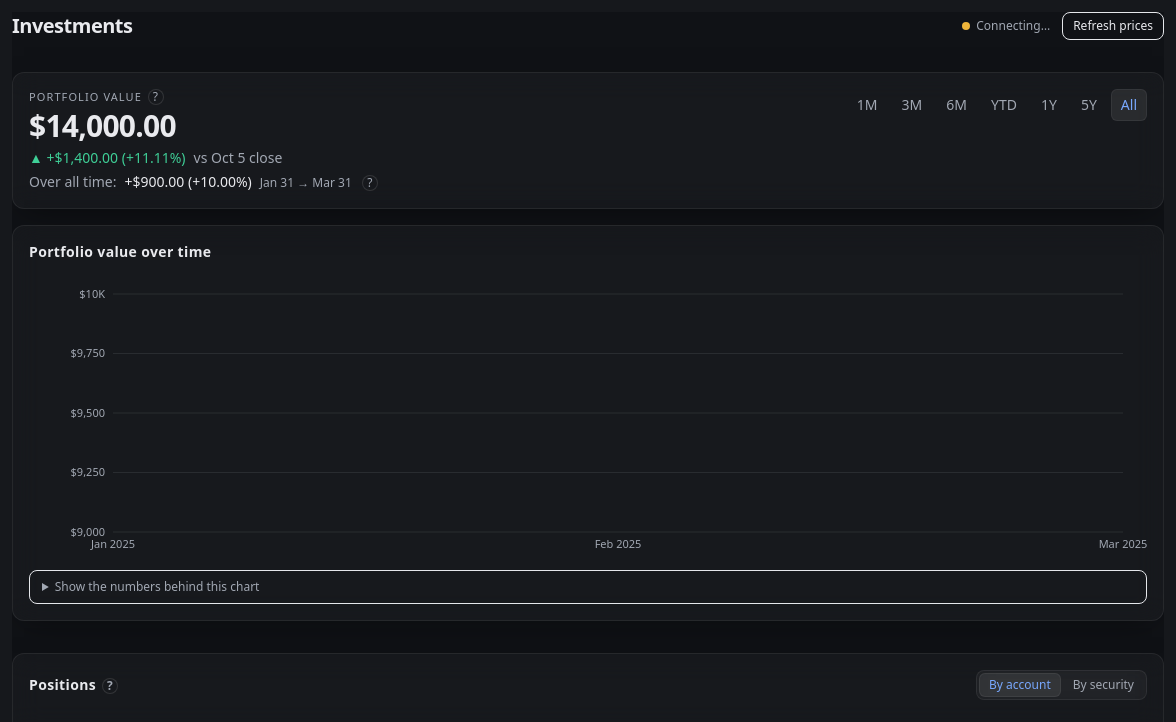
Test: H4 — one range, one number › re-requests the window and the sentence follows THAT response's stats
This screenshot has width=1176, height=722.
Expected: the element with test id "portfolio-range-stats" shows "Over all time:", [29,172,378,192]
Expected: the element with test id "portfolio-range-stats" shows "+$900.00", [124,172,252,190]
Click the button "6M". click: (957, 105)
box: [936,89,977,121]
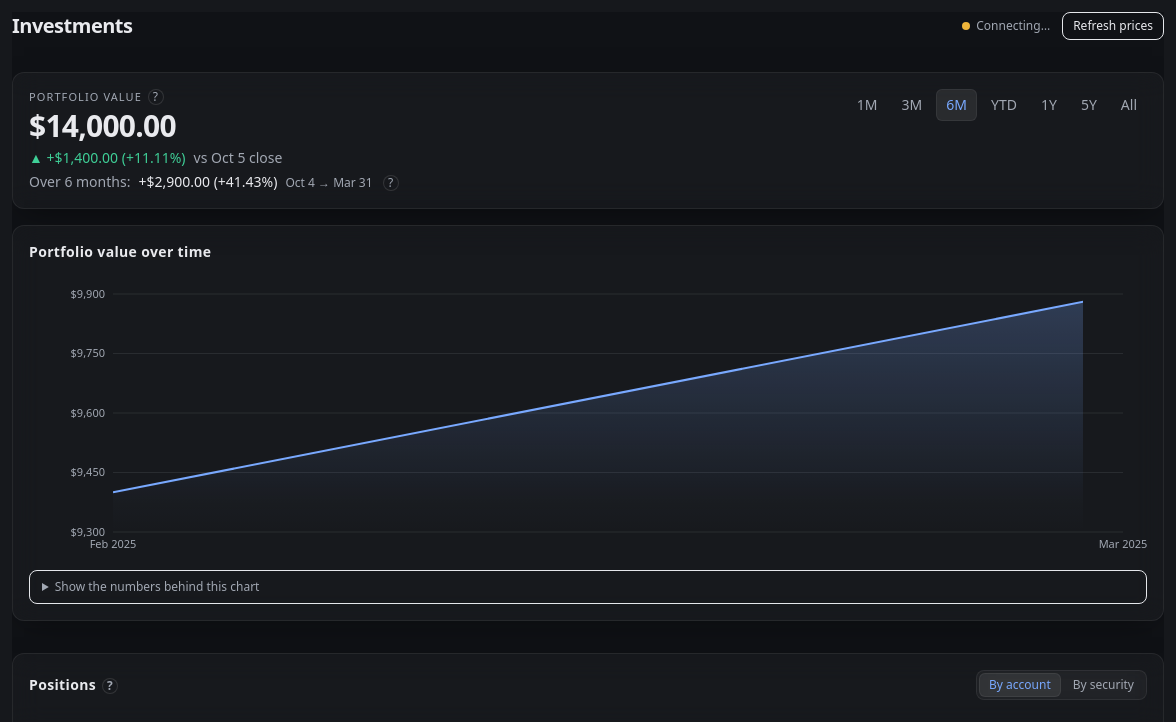
Expected: the element with test id "portfolio-range-stats" shows "Over 6 months:", [29,172,399,192]
Expected: the element with test id "portfolio-range-stats" shows "+$2,900.00", [138,172,277,190]
Expected: the element with test id "portfolio-range-stats" shows "(+41.43%)", [138,172,277,190]
